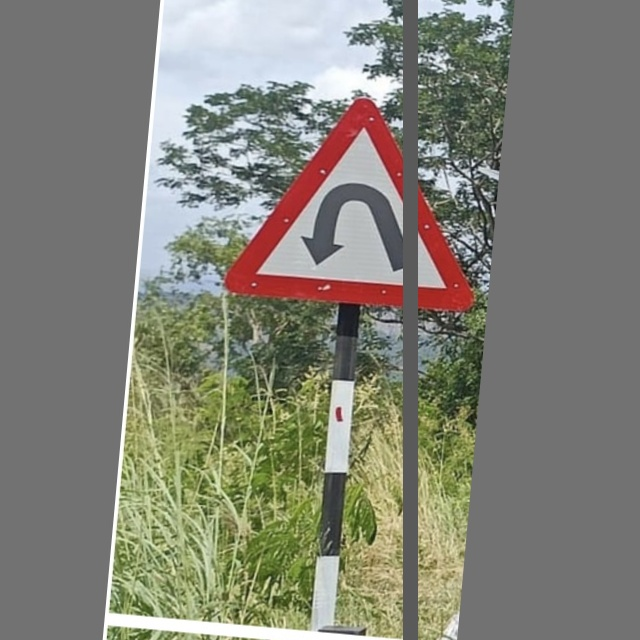Left_Hair_Pin_Bend: (228, 83, 488, 320)
